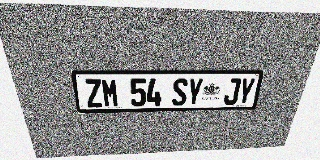4: (146, 78, 162, 106)
5: (130, 78, 146, 107)
J: (223, 78, 241, 105)
M: (101, 79, 119, 107)
S: (172, 78, 188, 106)
Y: (236, 78, 256, 104), (186, 78, 203, 105)
Z: (84, 79, 103, 108)
